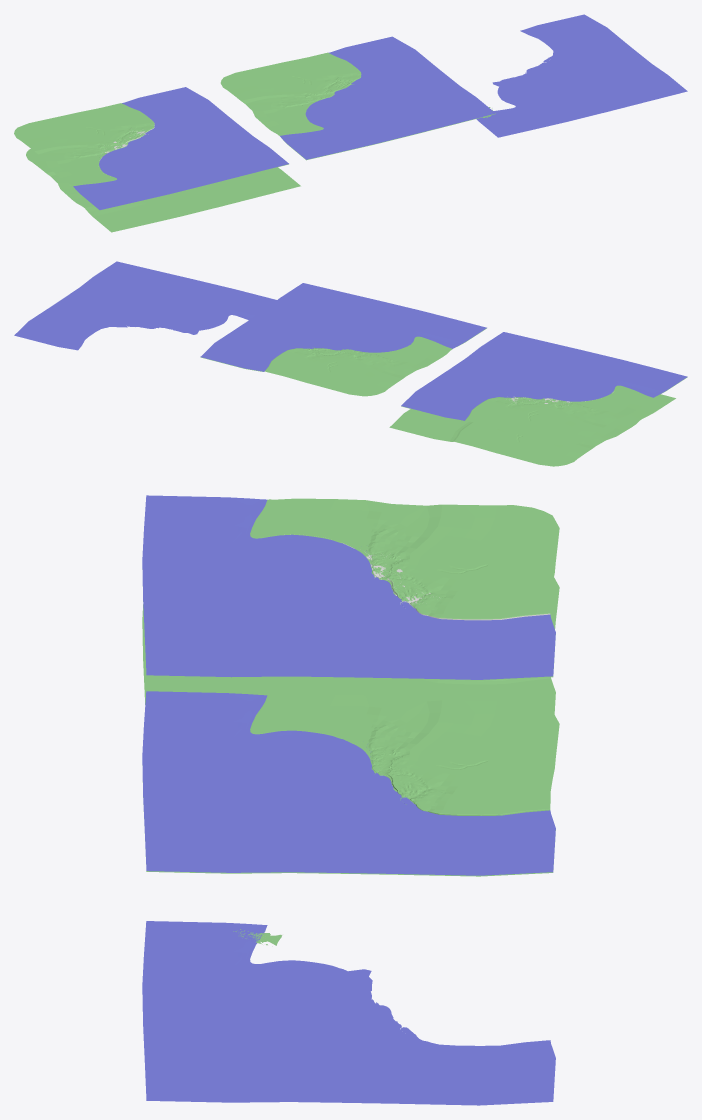
Rendered from Dover Model.fbx.
The picture shows the model from 3 angles, top to bottom: view 1: azimuth 30°, elevation 25°; view 2: azimuth 150°, elevation 25°; view 3: azimuth 270°, elevation 25°; orthographic projection. The views are drawn at different scales.
Visible parts, largest first — view 1: Dover, Dover.Textured, Dover Sea, Dover.009; view 2: Dover.Textured, Dover, Dover Sea, Dover.009; view 3: Dover, Dover.Textured, Dover Sea, Dover.009.
Boxes of the visible parts, x1,y1,x2,y2 form: Dover: [220, 36, 495, 160]; Dover.Textured: [14, 87, 288, 210]; Dover Sea: [476, 14, 687, 137]; Dover.009: [26, 149, 300, 232]; Dover.Textured: [401, 332, 687, 445]; Dover: [200, 283, 486, 396]; Dover Sea: [14, 261, 276, 350]; Dover.009: [389, 394, 675, 466]; Dover: [142, 691, 559, 876]; Dover.Textured: [142, 495, 559, 680]; Dover Sea: [142, 921, 555, 1105]; Dover.009: [142, 577, 559, 713].
Size of what is drawn, in the model's own units: 20100 by 832 by 6307.
